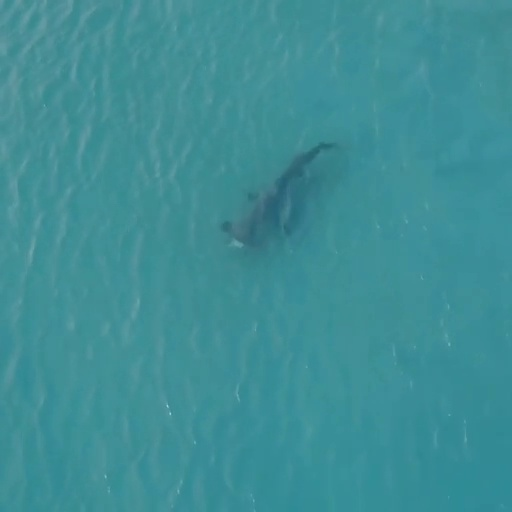shark: (217, 138, 339, 256)
